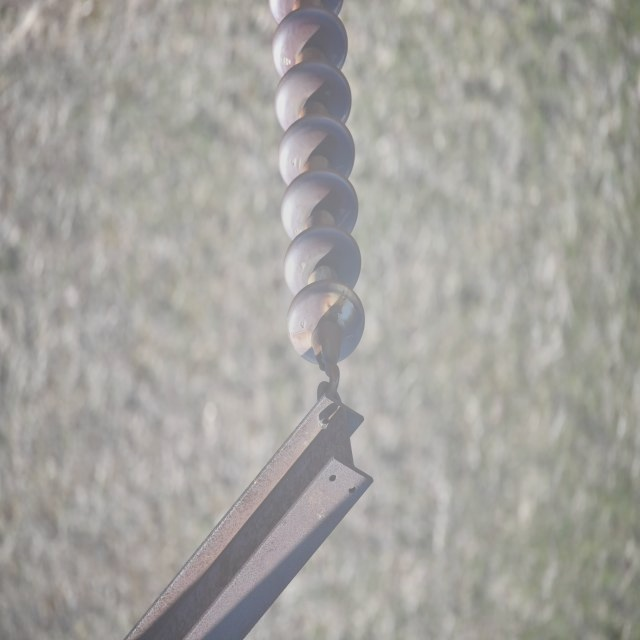insulator: (269, 0, 364, 363)
